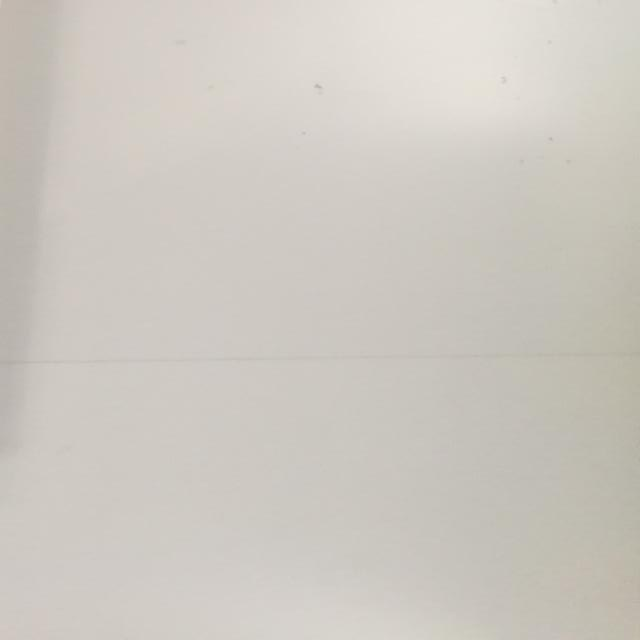fluorescent tube: (0, 0, 78, 523)
